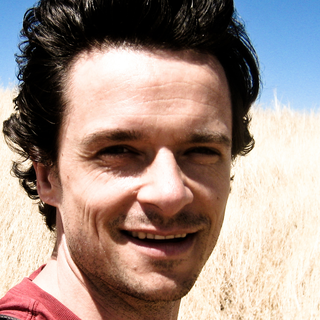eye: (88, 141, 143, 165), (180, 140, 223, 164)
